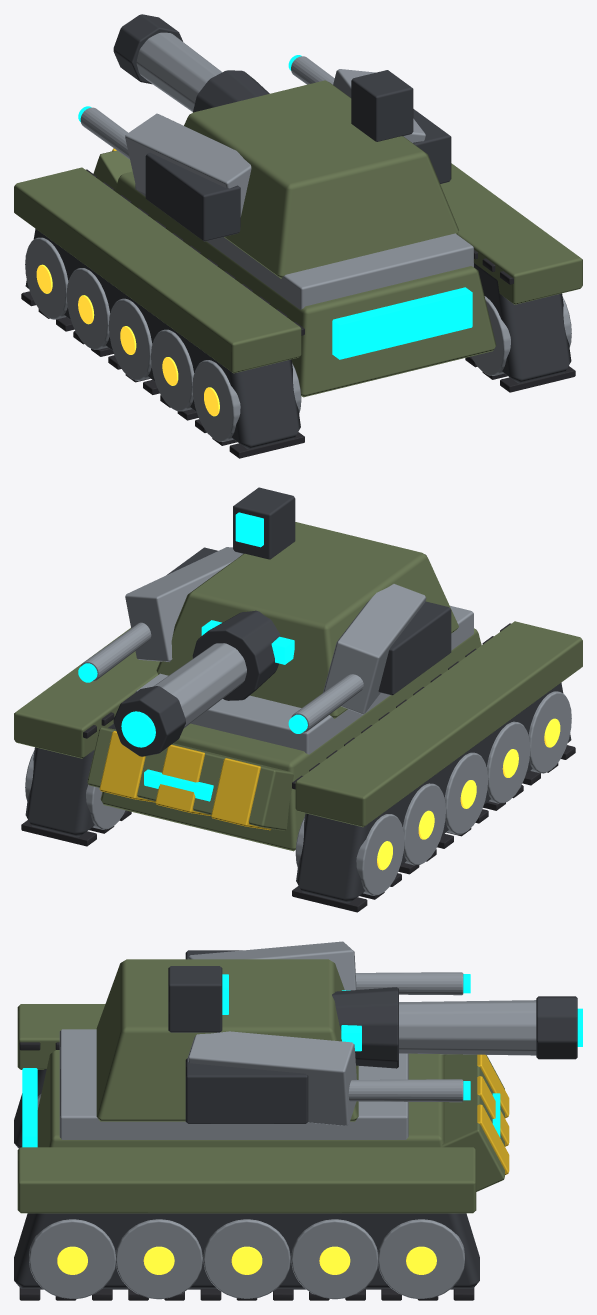
The model's file is mech_bastion.glb.
3 renders of one model, top to bottom at view 1: azimuth 30°, elevation 25°; view 2: azimuth 150°, elevation 25°; view 3: azimuth 270°, elevation 25°, orthographic. The views are drawn at different scales.
Visible parts, largest first — view 1: Bastion_Turret, Bastion_SideSkirt_L, Bastion_Hull, Bastion_SideSkirt_R, Bastion_UpperDeck, Bastion_TrackFrame_L, Bastion_RearExhaust, Bastion_TrackFrame_R, Bastion_TurretCheekL, Bastion_SidePod_L, Bastion_OpticTower, Bastion_MainCannon (+15 smaller); view 2: Bastion_SideSkirt_L, Bastion_Turret, Bastion_Hull, Bastion_SideSkirt_R, Bastion_TrackFrame_L, Bastion_TurretCheekL, Bastion_UpperDeck, Bastion_FrontGlacis, Bastion_TrackFrame_R, Bastion_TurretCheekR, Bastion_SidePod_L, Bastion_MainCannon (+20 smaller); view 3: Bastion_SideSkirt_R, Bastion_Turret, Bastion_UpperDeck, Bastion_TrackFrame_R, Bastion_TurretCheekR, Bastion_MainCannon, Bastion_Hull, Bastion_SidePod_R, Bastion_RoadWheel_R_-1.35, Bastion_RoadWheel_R_1.35, Bastion_RoadWheel_R_0.68, Bastion_RoadWheel_R_0.0 (+19 smaller).
Part boxes in pixels (x1,y1,x2,y2): Bastion_Turret: [184, 80, 458, 278]; Bastion_SideSkirt_L: [14, 167, 301, 373]; Bastion_Hull: [115, 171, 496, 397]; Bastion_SideSkirt_R: [440, 163, 582, 304]; Bastion_UpperDeck: [135, 184, 473, 309]; Bastion_TrackFrame_L: [25, 228, 300, 449]; Bastion_RearExhaust: [332, 287, 472, 359]; Bastion_TrackFrame_R: [474, 263, 571, 383]; Bastion_TurretCheekL: [125, 113, 251, 216]; Bastion_SidePod_L: [145, 152, 240, 241]; Bastion_OpticTower: [351, 70, 413, 141]; Bastion_MainCannon: [136, 32, 222, 111]; Bastion_SideSkirt_L: [295, 621, 582, 827]; Bastion_Turret: [156, 522, 458, 718]; Bastion_Hull: [100, 628, 481, 851]; Bastion_SideSkirt_R: [14, 628, 159, 758]; Bastion_TrackFrame_L: [296, 682, 571, 903]; Bastion_TurretCheekL: [323, 584, 426, 714]; Bastion_UpperDeck: [135, 605, 473, 754]; Bastion_FrontGlacis: [87, 727, 293, 830]; Bastion_TrackFrame_R: [25, 723, 115, 837]; Bastion_TurretCheekR: [125, 547, 242, 661]; Bastion_SidePod_L: [378, 601, 451, 695]; Bastion_MainCannon: [153, 643, 246, 728]; Bastion_SideSkirt_R: [17, 1147, 476, 1213]; Bastion_Turret: [96, 959, 358, 1121]; Bastion_UpperDeck: [59, 1029, 408, 1139]; Bastion_TrackFrame_R: [14, 1213, 479, 1289]; Bastion_TurretCheekR: [187, 1031, 356, 1125]; Bastion_MainCannon: [399, 1000, 536, 1055]; Bastion_Hull: [37, 1050, 444, 1147]; Bastion_SidePod_R: [185, 1058, 308, 1123]; Bastion_RoadWheel_R_-1.35: [29, 1219, 115, 1298]; Bastion_RoadWheel_R_1.35: [378, 1219, 464, 1298]; Bastion_RoadWheel_R_0.68: [291, 1219, 378, 1299]; Bastion_RoadWheel_R_0.0: [203, 1219, 290, 1298].
Size of the model in its own units: 3.28 by 2.31 by 4.4.
